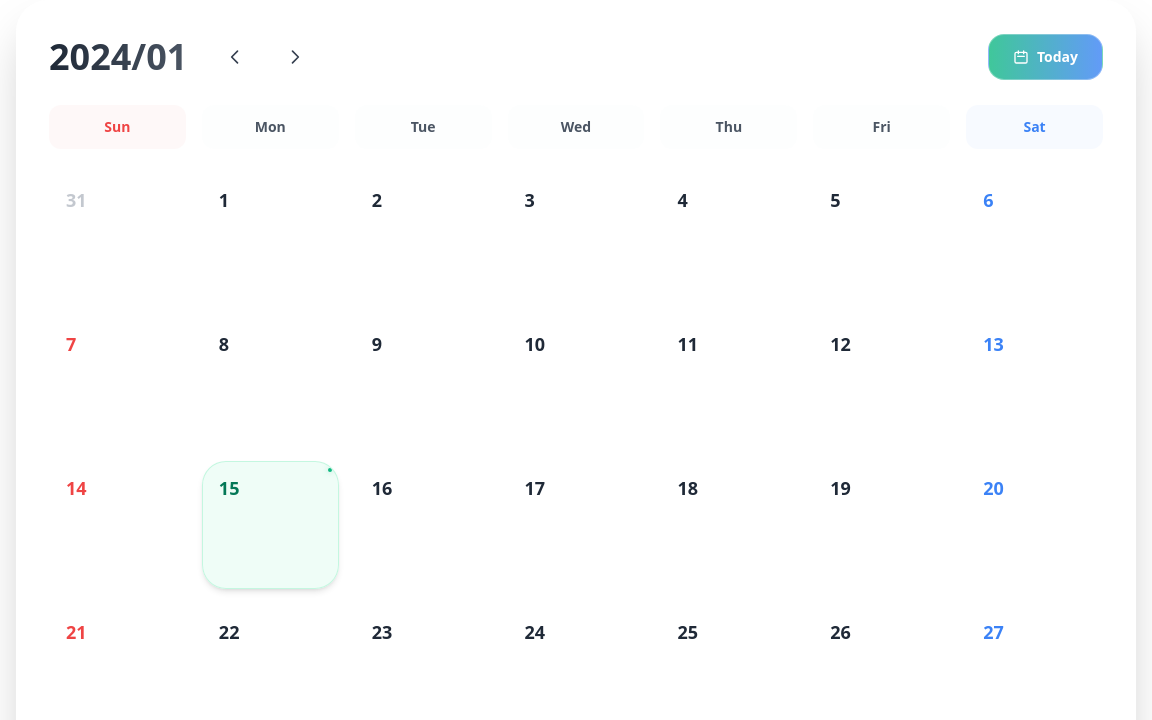
Test: Calendar.vue › ナビゲーション機能 › 次の月ボタンが動作する
Step 1. Click the 2nd button → (295, 57), box x1=271 y1=33 x2=319 y2=81
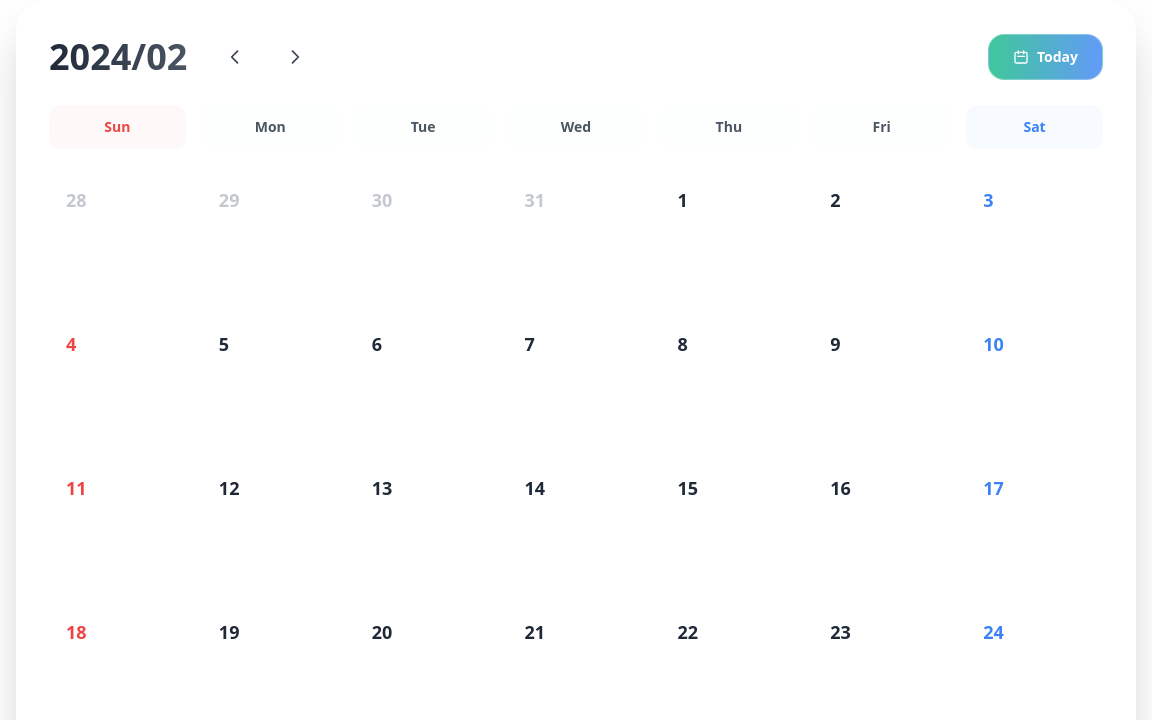
Now the text "2024/02" is shown, box x1=49 y1=37 x2=187 y2=77
